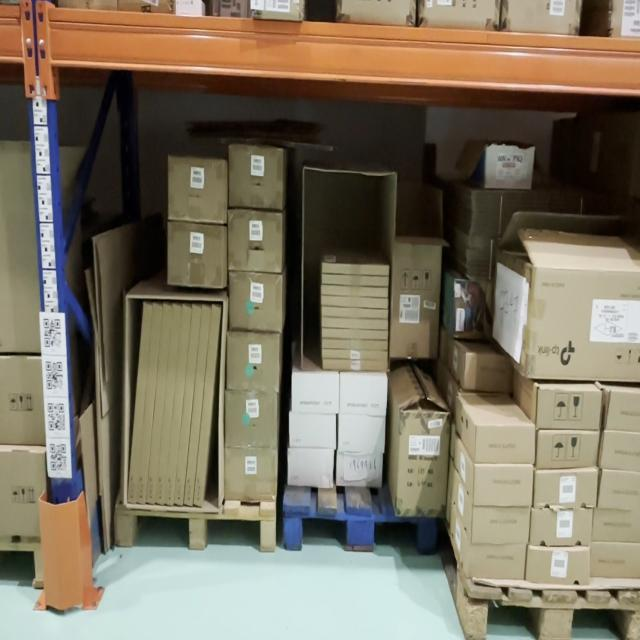box: (390, 243, 443, 359), (397, 411, 451, 517), (174, 305, 202, 506), (194, 305, 221, 506), (136, 305, 163, 505), (165, 307, 192, 506), (146, 303, 172, 505), (156, 305, 182, 505), (184, 306, 210, 506), (127, 304, 152, 503), (167, 220, 223, 288), (168, 158, 224, 223), (228, 145, 283, 211), (228, 212, 282, 272), (227, 331, 278, 390), (225, 391, 277, 448), (230, 275, 281, 331), (537, 389, 602, 430), (225, 450, 276, 500), (474, 464, 532, 506), (469, 542, 526, 581), (475, 427, 535, 464), (527, 548, 590, 583), (537, 432, 599, 467), (535, 472, 597, 507), (531, 509, 592, 544), (472, 506, 529, 543), (339, 376, 386, 416), (288, 449, 334, 487), (292, 376, 338, 413), (339, 417, 385, 452), (289, 414, 336, 448), (338, 454, 382, 484), (322, 263, 389, 275), (322, 275, 389, 287), (322, 307, 388, 319), (322, 318, 388, 330), (321, 286, 388, 297), (321, 297, 388, 307), (322, 329, 388, 339), (322, 340, 388, 350), (322, 350, 388, 360), (323, 361, 387, 370)
